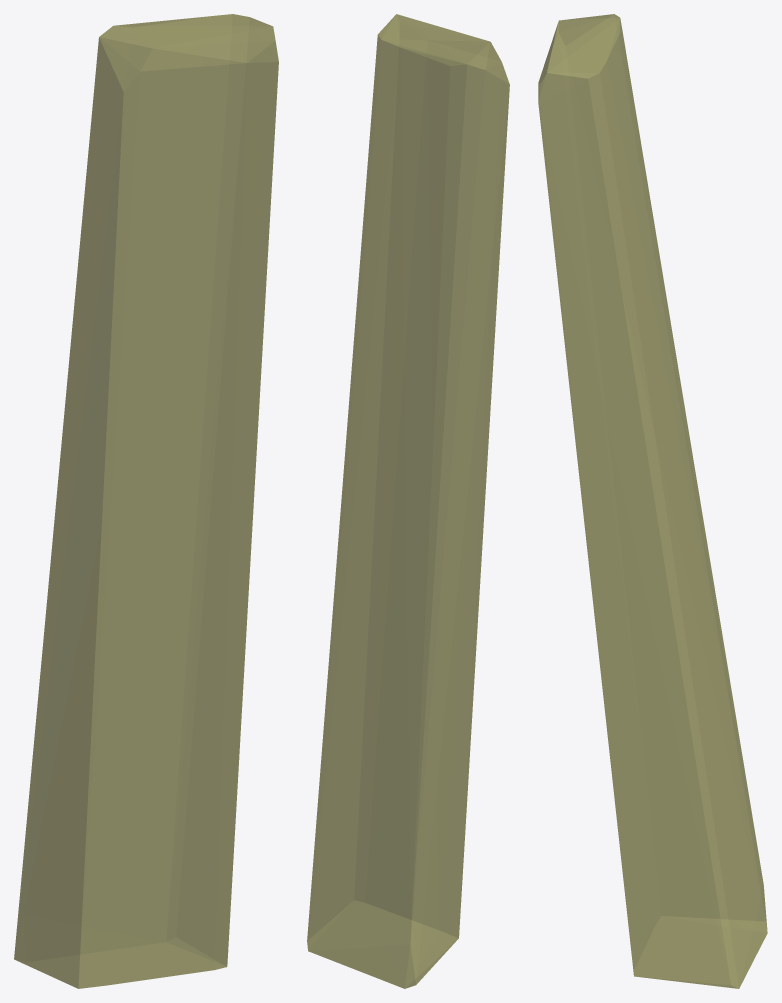
3 views of the same model, side by side, from view 1: azimuth 30°, elevation 25°; view 2: azimuth 150°, elevation 25°; view 3: azimuth 270°, elevation 25° (orthographic). The views are drawn at different scales.
Parts seen in each view (by area): view 1: Shape_IndexedFaceSet.006_Shape_IndexedFaceSet.8285; view 2: Shape_IndexedFaceSet.006_Shape_IndexedFaceSet.8285; view 3: Shape_IndexedFaceSet.006_Shape_IndexedFaceSet.8285.
Part boxes in pixels (<box>): Shape_IndexedFaceSet.006_Shape_IndexedFaceSet.8285: <box>14,14,278,988</box>; Shape_IndexedFaceSet.006_Shape_IndexedFaceSet.8285: <box>307,14,509,988</box>; Shape_IndexedFaceSet.006_Shape_IndexedFaceSet.8285: <box>538,14,767,988</box>.
Size of the model in its own units: 0.1414 by 0.9363 by 0.2116.
